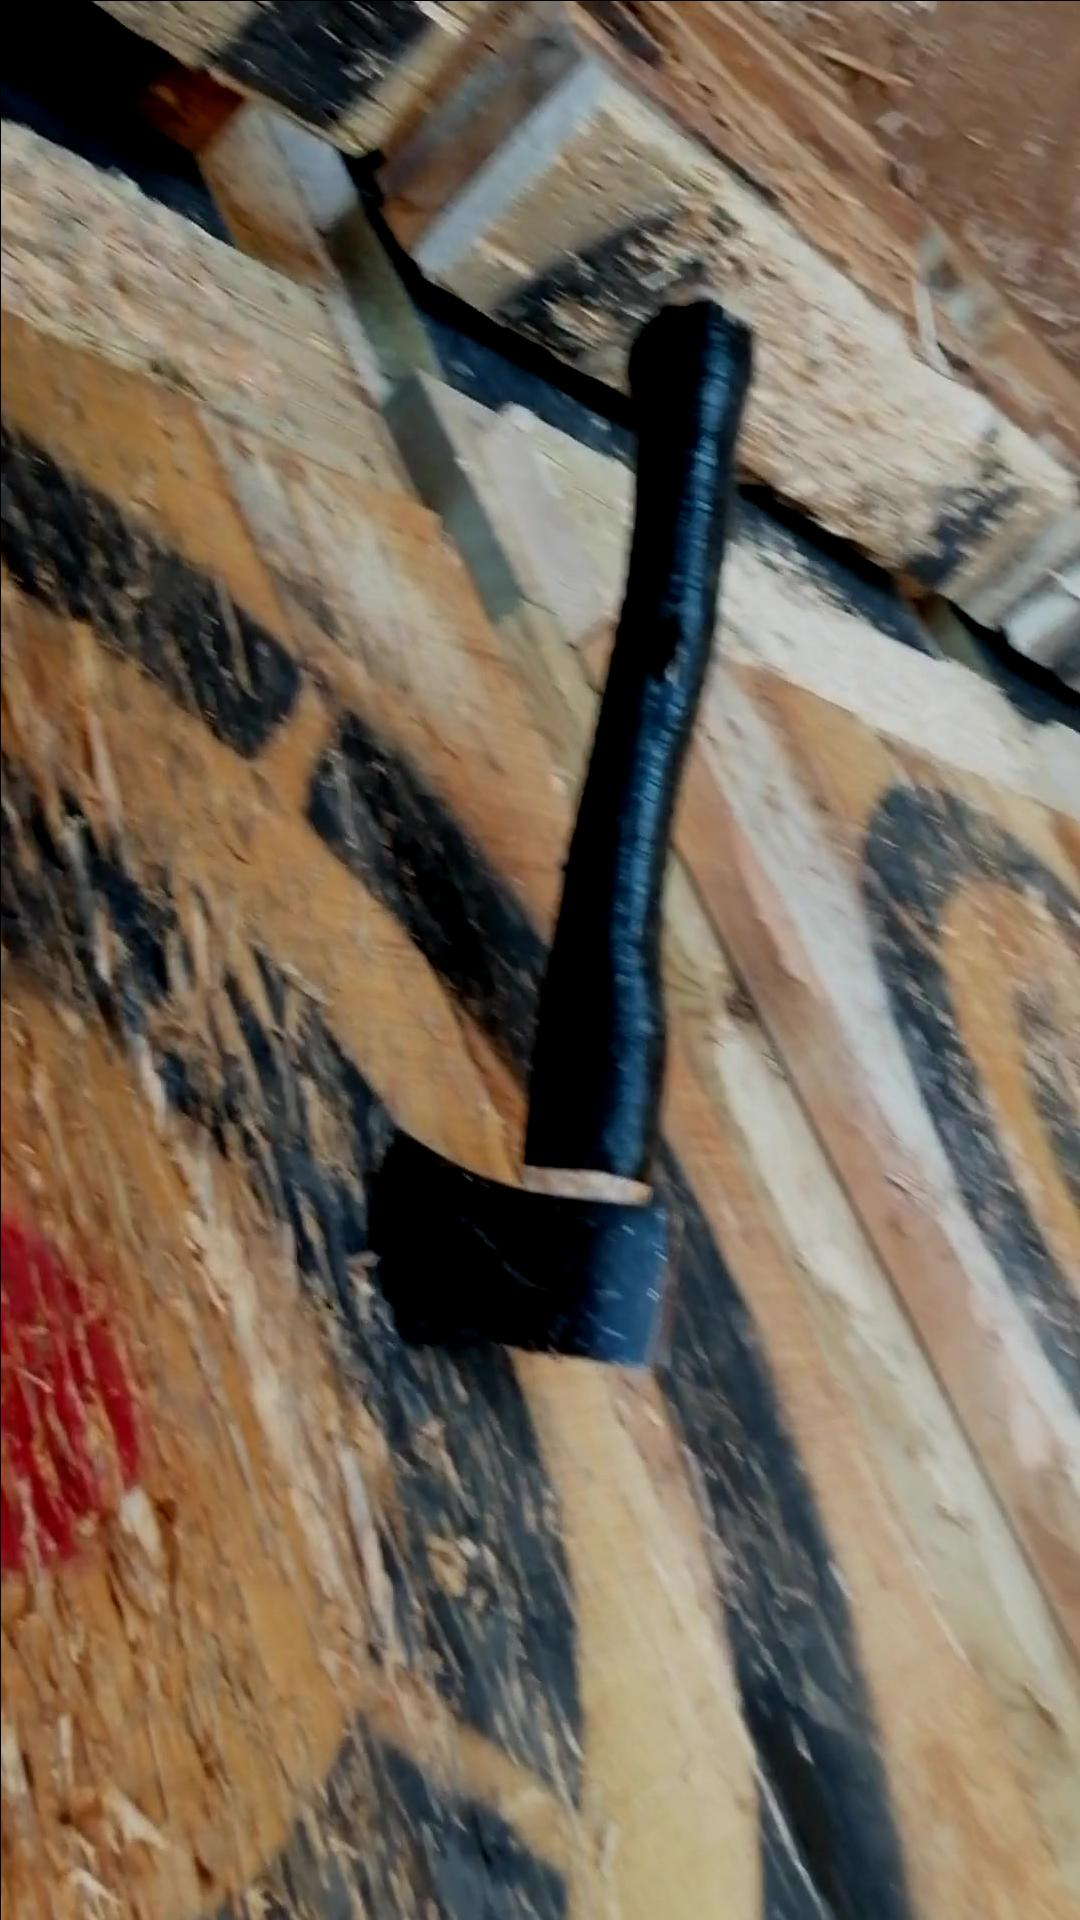Hand Axe: (368, 1122, 676, 1367)
